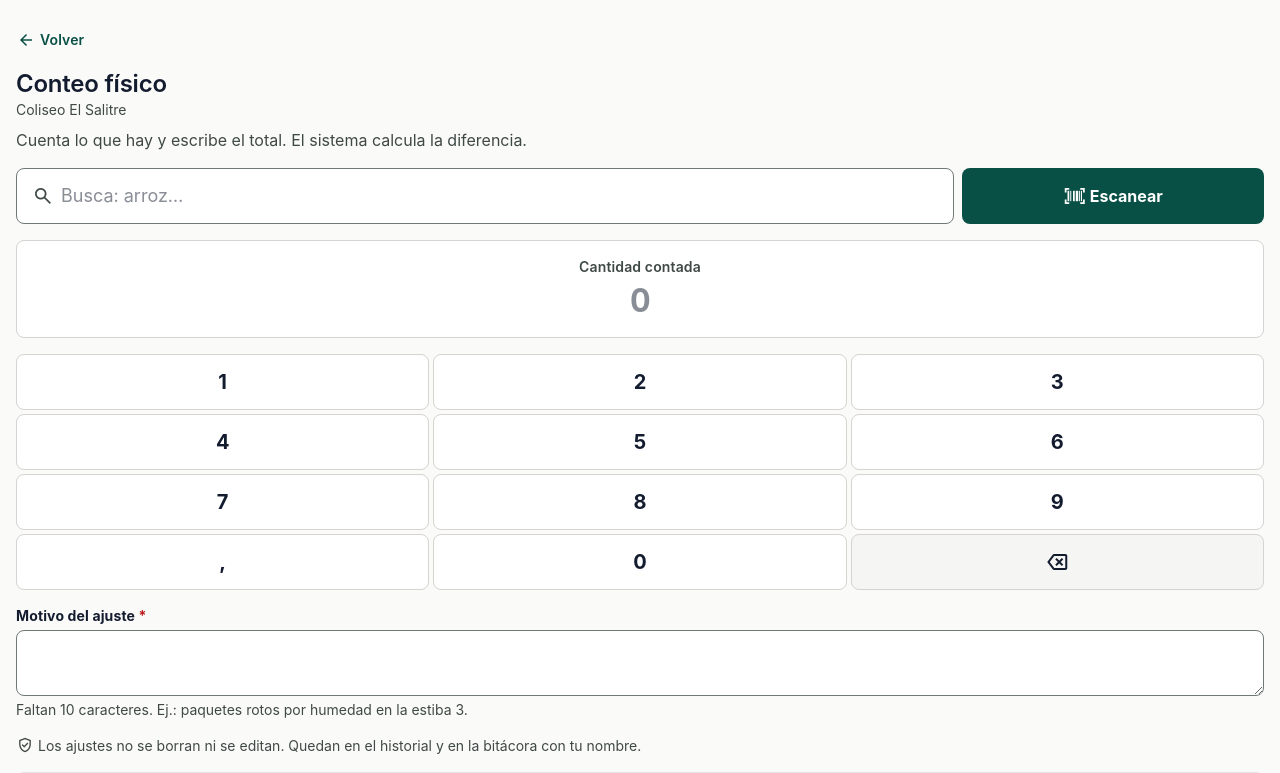
Test: C6 Conteo físico › muestra lo que dice el sistema y cuándo fue el último movimiento
This screenshot has width=1280, height=773.
Step 1. Type "panal" into the search field named "Categoría" → point(485, 196), box [16,168,954,224]
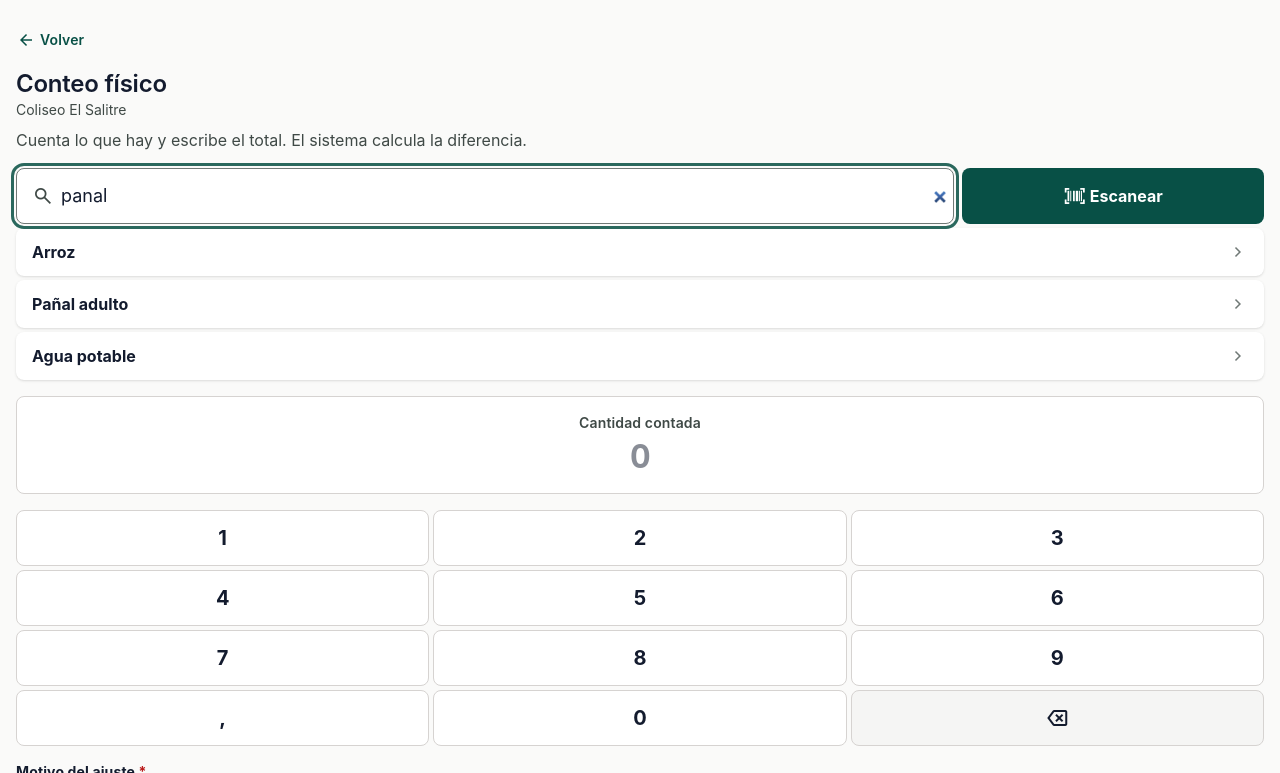
Step 2. Click the button "Pañal adulto" → point(80, 304), box [16,280,1264,328]
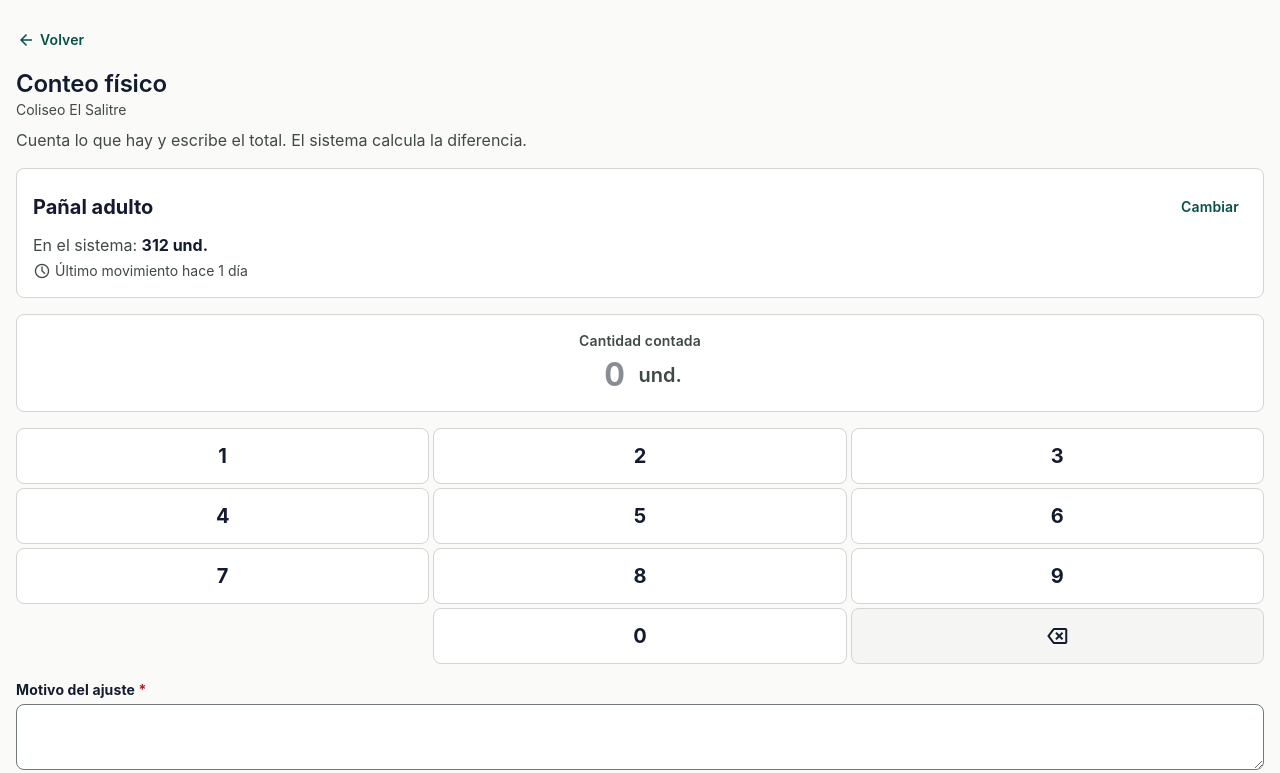
expect the element named "Categoría elegida" shows "En el sistema: 312 und.": met, box [16,168,1264,298]
expect the element named "Categoría elegida" shows "Último movimiento hace 1 día": met, box [16,168,1264,298]
